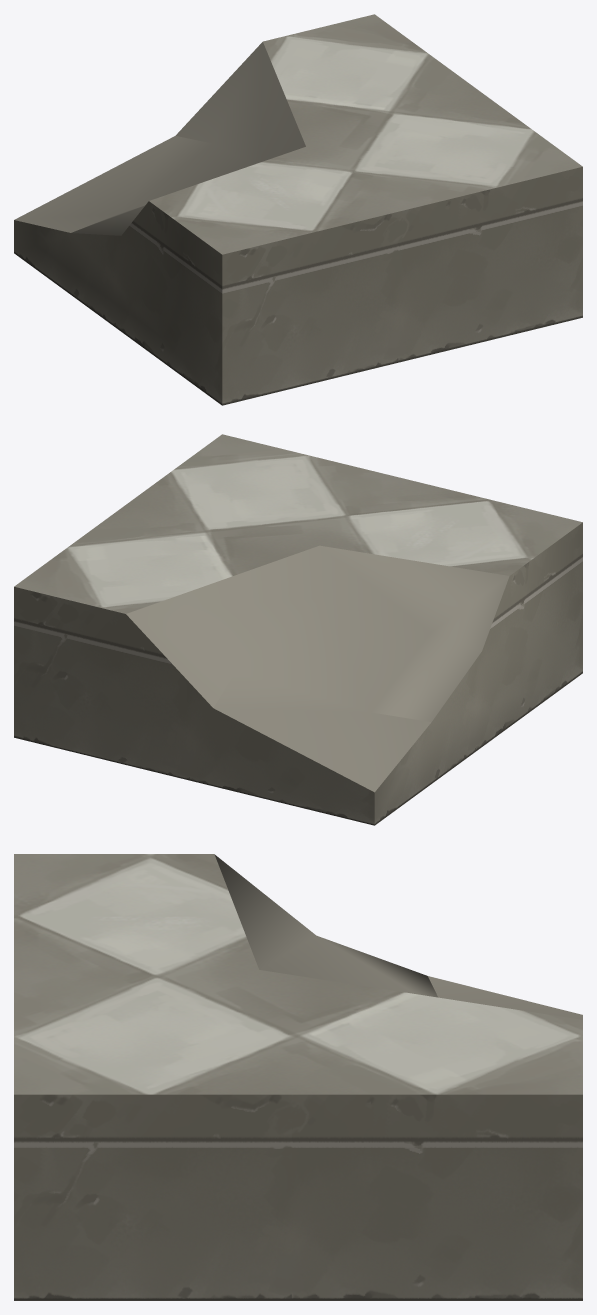
Rendered from graund01_Broken1.FBX.
3 views of the same model, one above another, from view 1: azimuth 30°, elevation 25°; view 2: azimuth 150°, elevation 25°; view 3: azimuth 270°, elevation 25° (orthographic). The views are drawn at different scales.
Parts seen in each view (by area): view 1: Ground_B_1; view 2: Ground_B_1; view 3: Ground_B_1.
Boxes of the visible parts, x1=… form: Ground_B_1: x1=14, y1=14, x2=582, y2=405; Ground_B_1: x1=14, y1=434, x2=582, y2=825; Ground_B_1: x1=14, y1=854, x2=582, y2=1300.
Bounding box in the file's own units: 200 × 80 × 200.
